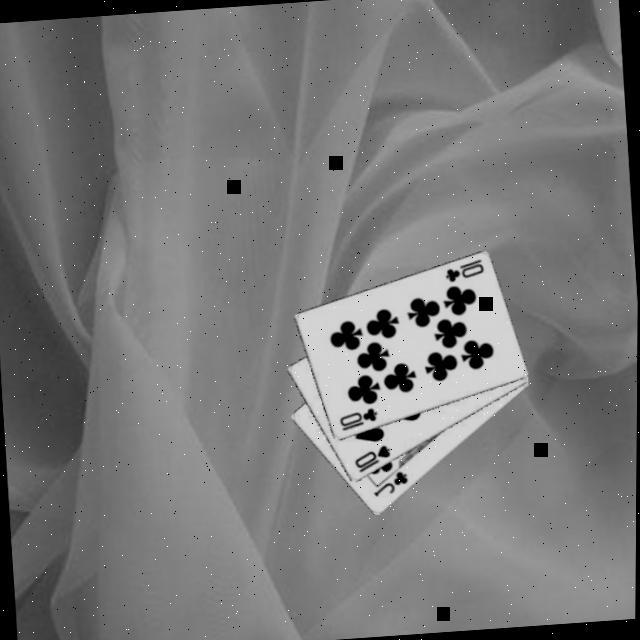10C: (337, 403, 383, 432), (443, 254, 489, 283)
10S: (352, 440, 397, 473)
JC: (371, 464, 413, 498)
